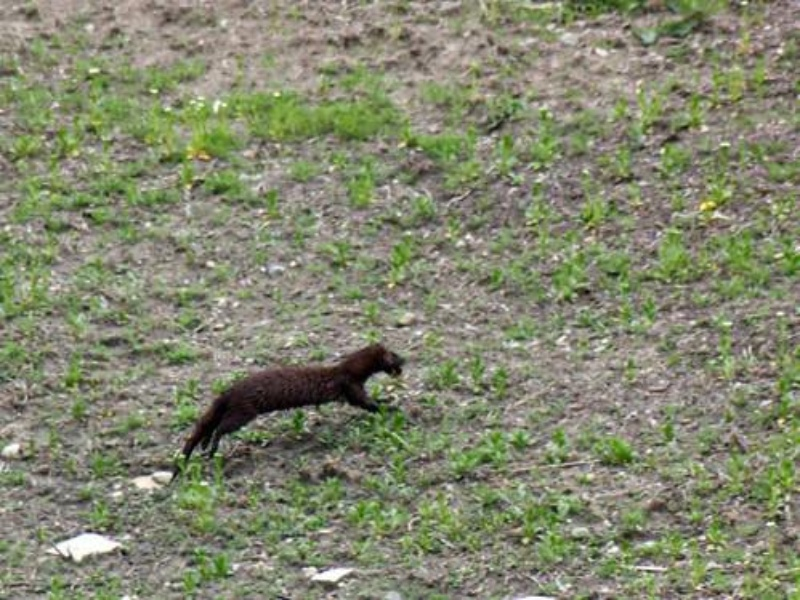minkish: (182, 339, 406, 467)
